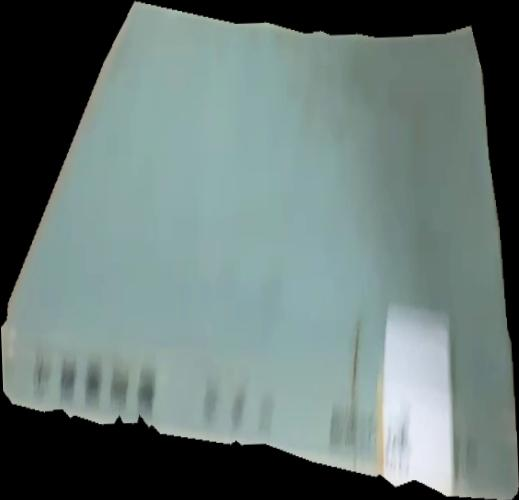flat: (1, 1, 519, 500)
